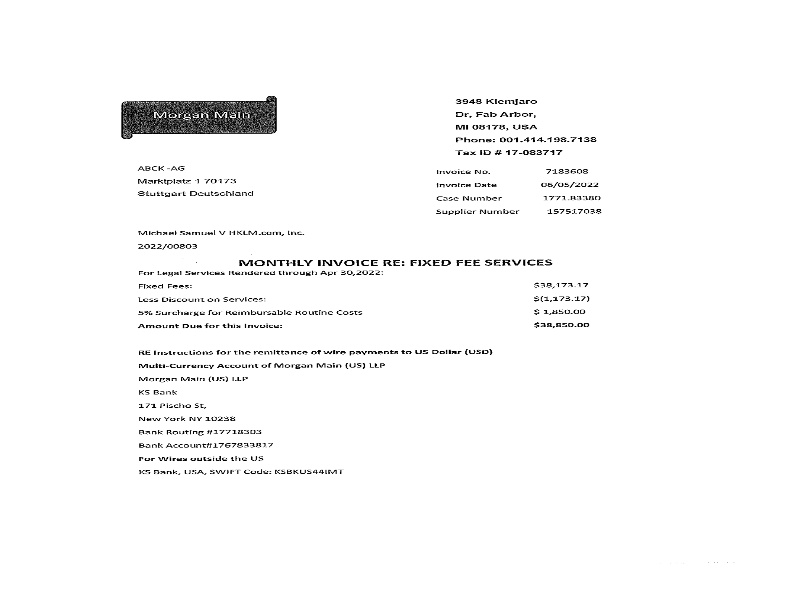Borderless: (136, 279, 598, 340)
